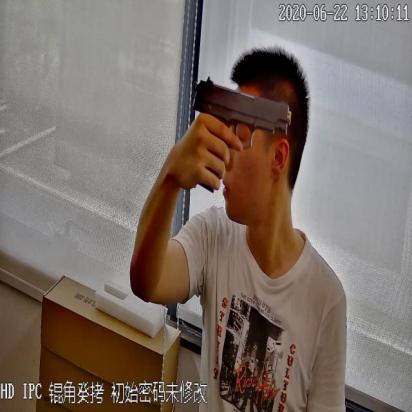Gun: (182, 74, 290, 191)
